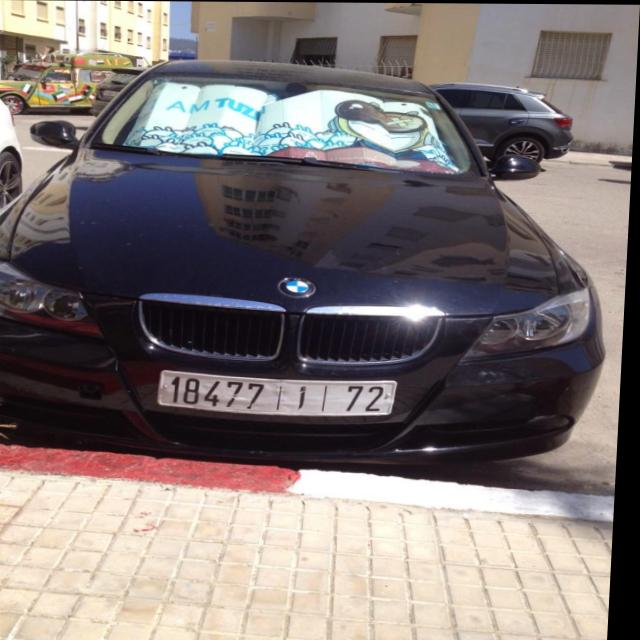License-Plate: (162, 370, 401, 415)
